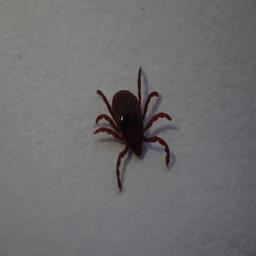Rhipicephalus sanguineus: (94, 65, 174, 193)
